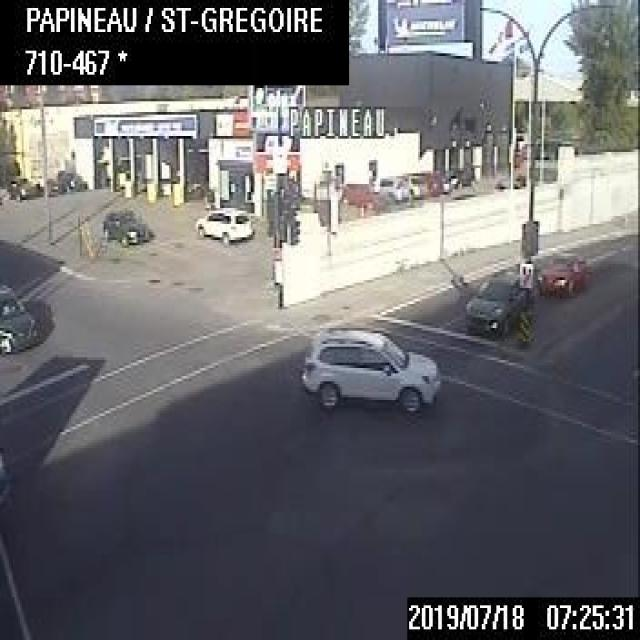vehicle: (298, 320, 438, 411), (462, 269, 522, 336), (534, 243, 591, 296), (0, 280, 38, 352), (192, 202, 254, 245), (101, 206, 152, 247), (339, 178, 378, 211), (6, 173, 44, 201), (378, 171, 408, 204), (54, 168, 86, 190)
